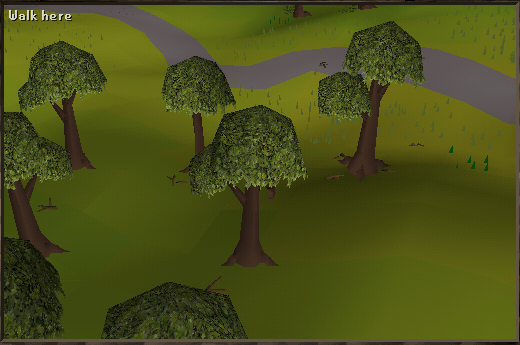Tree: (315, 18, 422, 178), (206, 106, 287, 267), (0, 121, 75, 263), (31, 36, 99, 167), (164, 59, 226, 154)
